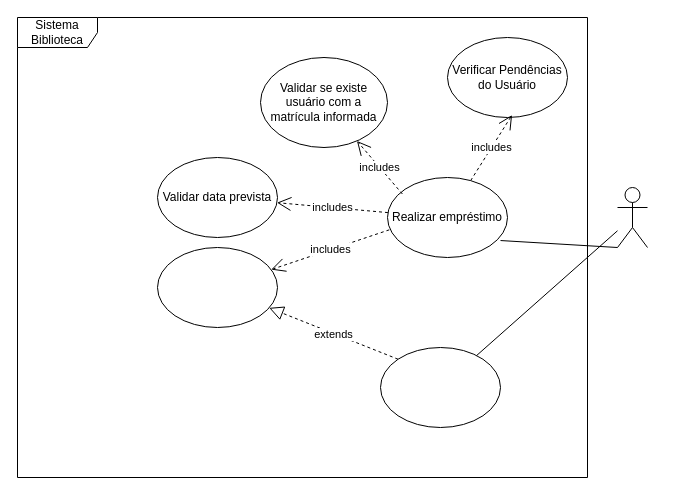
The diagram is 682 pixels wide and 495 high, and some of its shapes have lost their labels. Each missing label, with the centre of its shape:
"Bibliotecário" belongs at [632,217].
"Informar ao Aluno/Professor pendências" belongs at [440,387].
"Verificar pendências do mesmo livro" belongs at [217,287].
